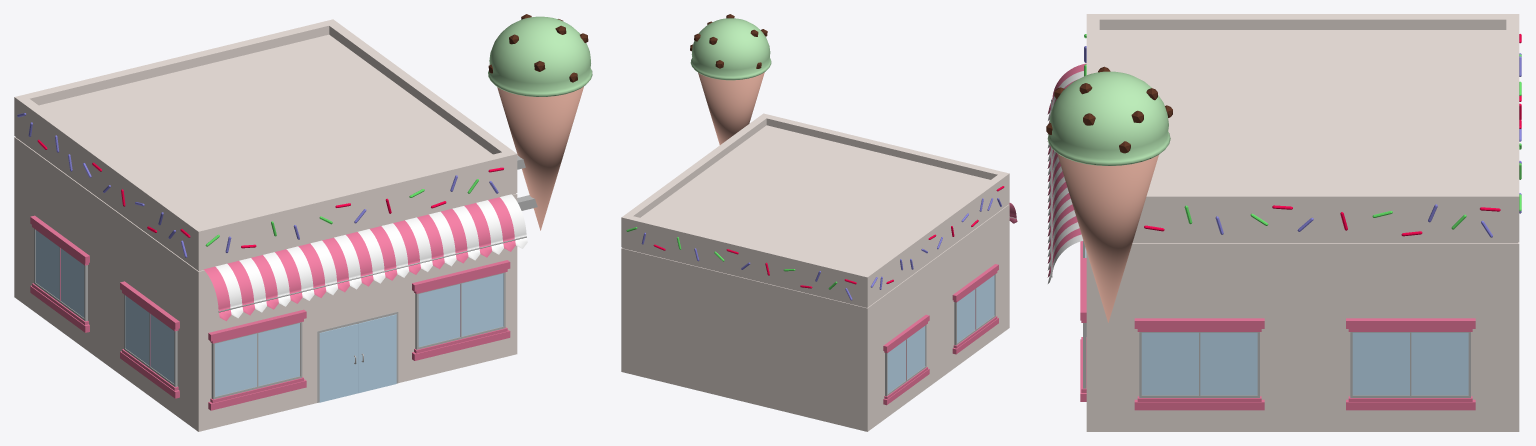
The model's file is IceCreamShop.fbx.
3 renders of one model, left to right at view 1: azimuth 30°, elevation 25°; view 2: azimuth 150°, elevation 25°; view 3: azimuth 270°, elevation 25°, orthographic. The views are drawn at different scales.
Visible parts, largest first — view 1: Ice Cream Building 1; view 2: Ice Cream Building 1; view 3: Ice Cream Building 1.
Part boxes in pixels (x1,y1,x2,y2): Ice Cream Building 1: (14, 14, 592, 431); Ice Cream Building 1: (621, 14, 1017, 431); Ice Cream Building 1: (1046, 14, 1521, 431).
Size of the model in its own units: 1261 by 954 by 1100.
